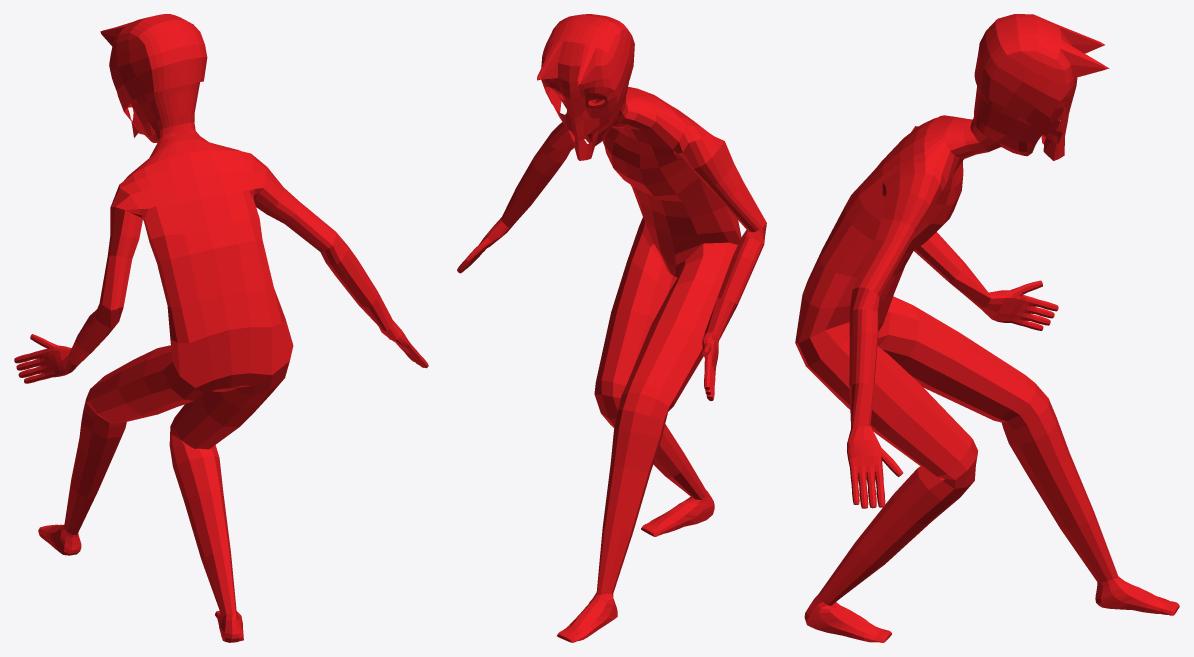
The model's file is saltoadelanteE_000134.obj.
3 views of the same model, side by side, from view 1: azimuth 30°, elevation 25°; view 2: azimuth 150°, elevation 25°; view 3: azimuth 270°, elevation 25° (orthographic). The views are drawn at different scales.
Visible parts, largest first — view 1: Plane.002_Plane.001; view 2: Plane.002_Plane.001; view 3: Plane.002_Plane.001.
Boxes of the visible parts, bbox=[...] form: Plane.002_Plane.001: bbox=[14, 14, 428, 642]; Plane.002_Plane.001: bbox=[457, 14, 766, 642]; Plane.002_Plane.001: bbox=[795, 14, 1179, 642].
Bounding box in the file's own units: 3.52 × 5.68 × 3.21.
